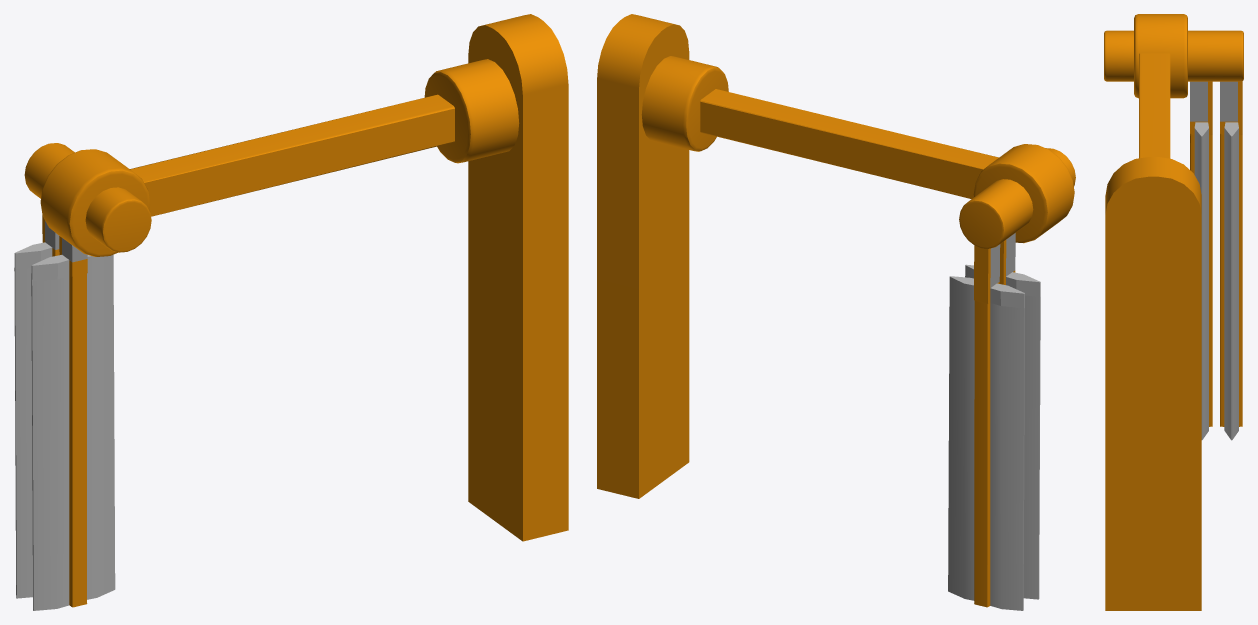
3 renders of one model, left to right at view 1: azimuth 30°, elevation 25°; view 2: azimuth 150°, elevation 25°; view 3: azimuth 270°, elevation 25°, orthographic. The views are drawn at different scales.
Parts seen in each view (by area): view 1: polySurface61, polySurface89, polySurface67; view 2: polySurface61, polySurface67, polySurface89; view 3: polySurface61, polySurface67, polySurface89.
Boxes of the visible parts, left/top/right/bottom form: polySurface61: left=24, top=14, right=568, bottom=541; polySurface89: left=31, top=236, right=115, bottom=610; polySurface67: left=14, top=215, right=59, bottom=598; polySurface61: left=597, top=14, right=1075, bottom=498; polySurface67: left=948, top=244, right=1024, bottom=610; polySurface89: left=965, top=233, right=1040, bottom=599; polySurface61: left=1104, top=14, right=1243, bottom=610; polySurface67: left=1220, top=81, right=1242, bottom=440; polySurface89: left=1190, top=81, right=1212, bottom=439.
Bounding box in the file's own units: 2.21 × 2.17 × 0.6279.
